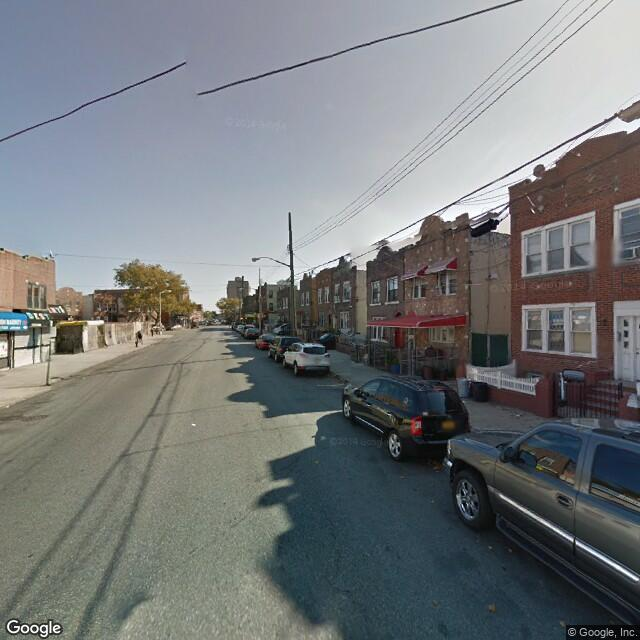litter: (191, 421, 197, 428), (516, 413, 518, 418)
